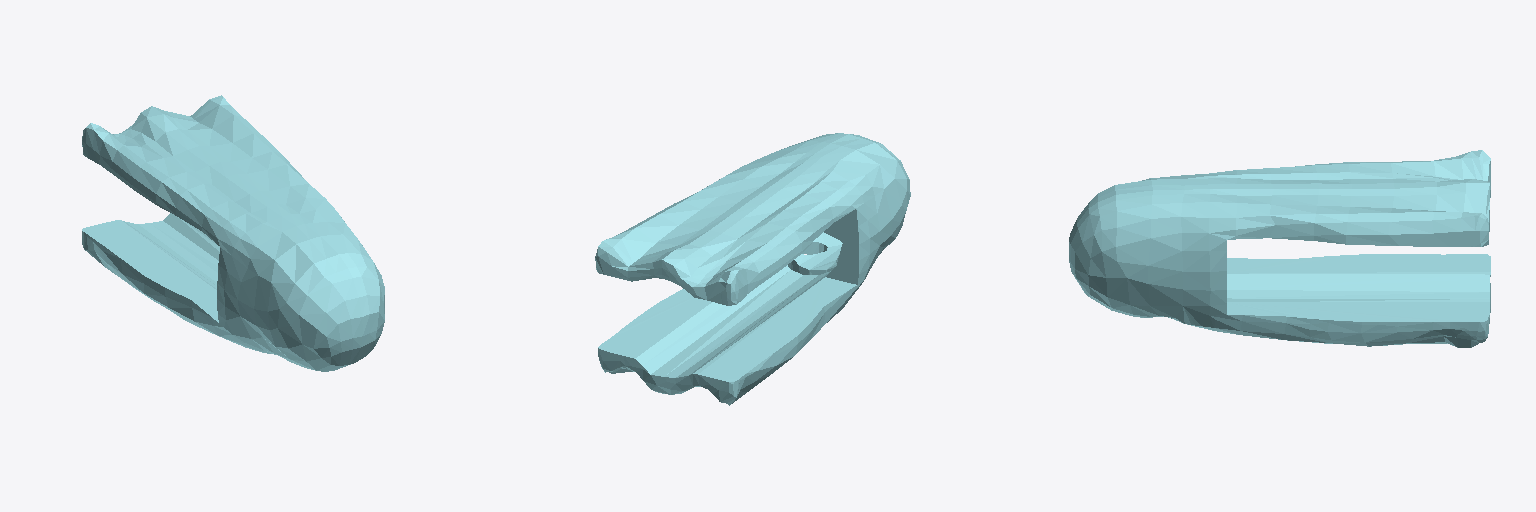
The model's file is ghost.obj.
The picture shows the model from 3 angles: view 1: azimuth 30°, elevation 25°; view 2: azimuth 150°, elevation 25°; view 3: azimuth 270°, elevation 25°; orthographic projection.
Visible parts, largest first — view 1: Piece000; view 2: Piece000; view 3: Piece000.
Boxes of the visible parts, <box> form: Piece000: <box>82,95,384,371</box>; Piece000: <box>595,133,910,405</box>; Piece000: <box>1069,150,1490,347</box>.
Bounding box in the file's own units: 39.21 × 39.29 × 101.